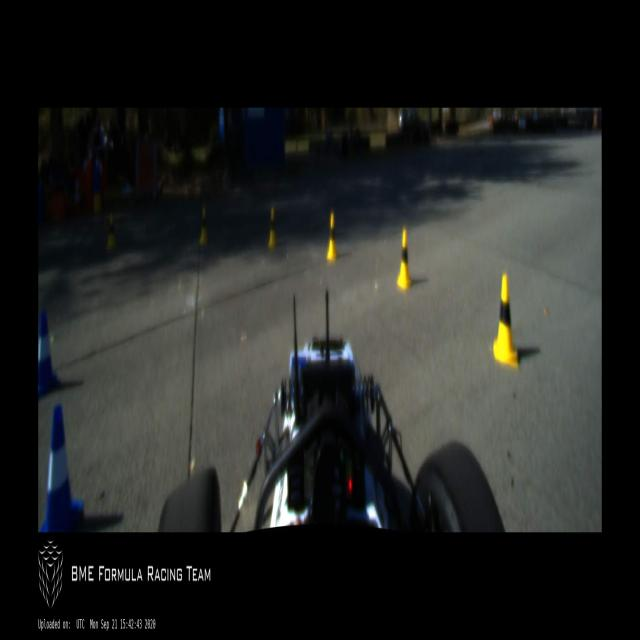blue_cone: (38, 402, 83, 532), (38, 309, 59, 397)
yellow_cone: (492, 272, 520, 368), (398, 227, 412, 291), (326, 212, 337, 260), (106, 212, 118, 250), (268, 208, 278, 248), (200, 208, 208, 245)
